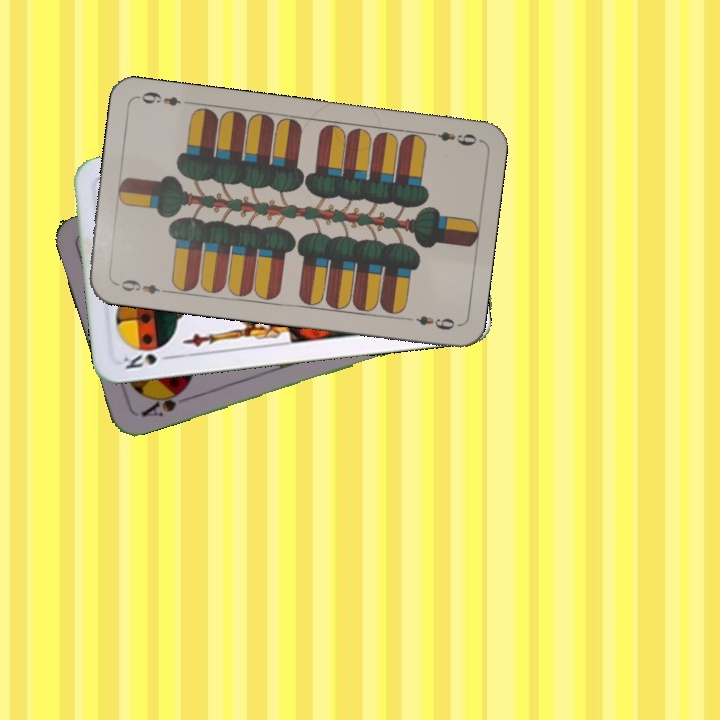E9: (111, 275, 170, 297), (423, 128, 480, 148)
SA: (137, 384, 189, 420)
SK: (119, 349, 176, 372)
